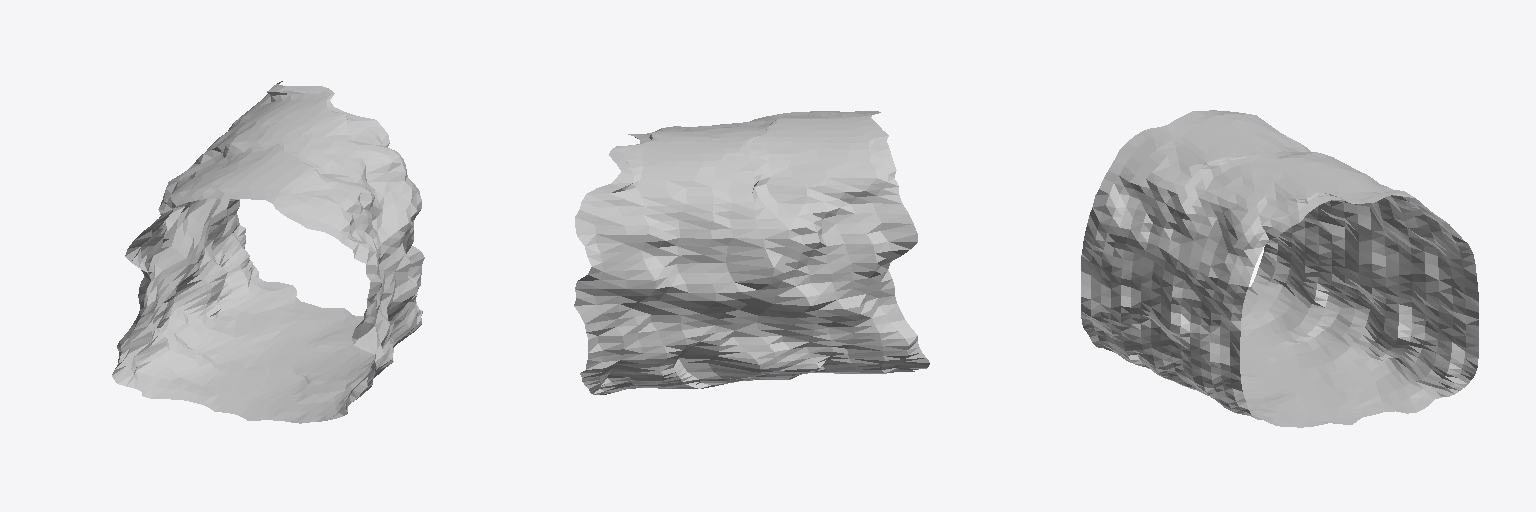
Rendered from cave4.obj.
3 views of the same model, side by side, from view 1: azimuth 30°, elevation 25°; view 2: azimuth 150°, elevation 25°; view 3: azimuth 270°, elevation 25° (orthographic).
Visible parts, largest first — view 1: Cube.004; view 2: Cube.004; view 3: Cube.004.
Part boxes in pixels (x1,y1,x2,y2): Cube.004: (112,81,424,423); Cube.004: (574,111,929,394); Cube.004: (1081,110,1478,427).
Bounding box in the file's own units: 2.83 × 1.92 × 3.19.